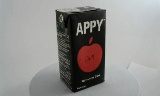appy: (50, 4, 99, 92)
